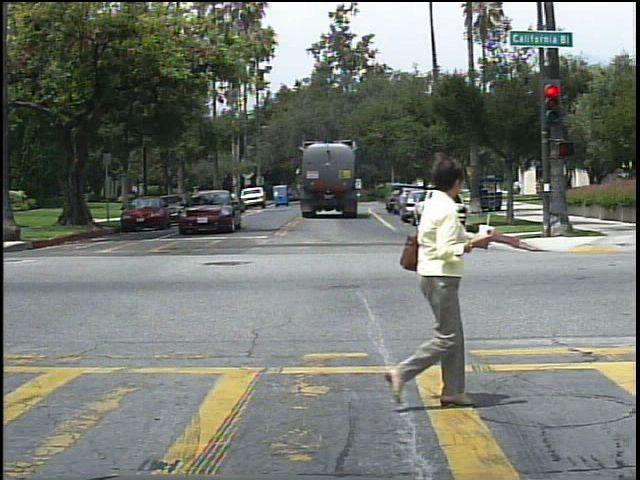person: (374, 142, 494, 415), (514, 180, 527, 199)
